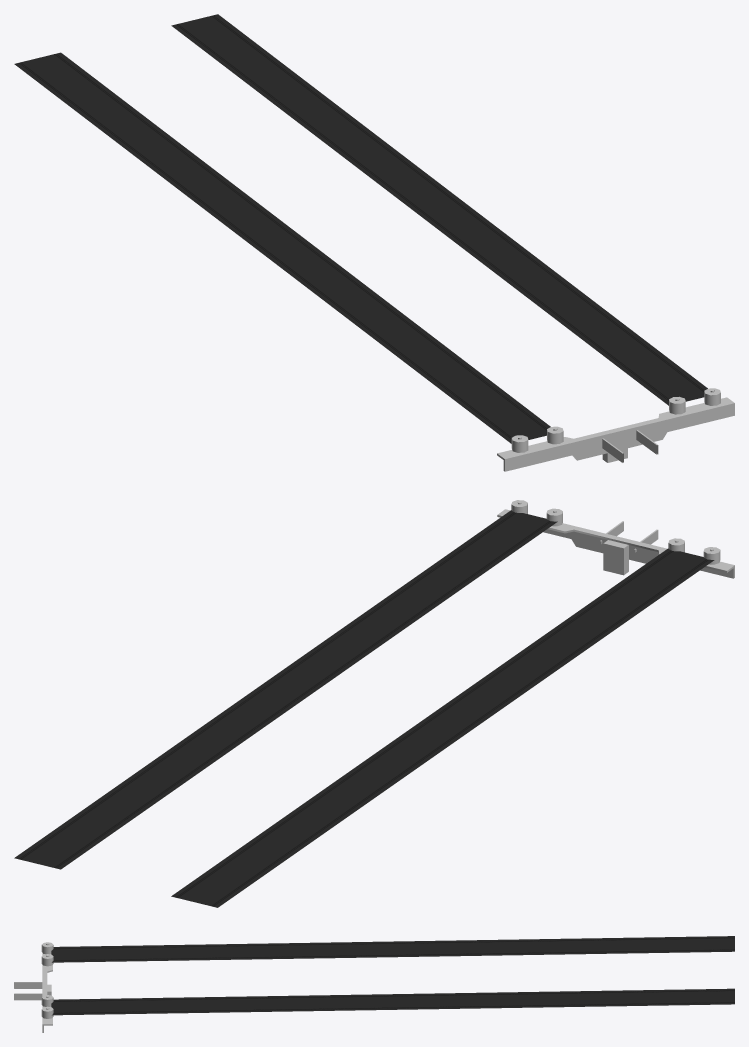
Rendered from Power_pole_cableBuilding.fbx.
3 views of the same model, one above another, from view 1: azimuth 30°, elevation 25°; view 2: azimuth 150°, elevation 25°; view 3: azimuth 270°, elevation 25° (orthographic). The views are drawn at different scales.
Visible parts, largest first — view 1: polySurface928; view 2: polySurface928; view 3: polySurface928.
Part boxes in pixels (left/top/right/bottom): polySurface928: left=14, top=14, right=734, bottom=471; polySurface928: left=14, top=500, right=734, bottom=907; polySurface928: left=14, top=936, right=734, bottom=1032.
Bounding box in the file's own units: 1.38 × 0.3058 × 5.44.
